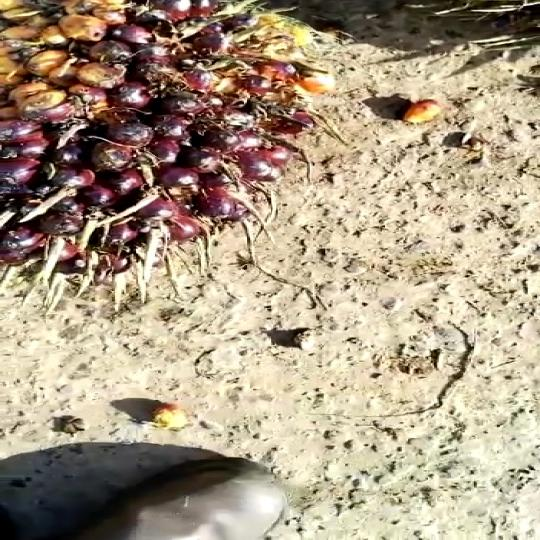kurang masak: (0, 0, 322, 259)
